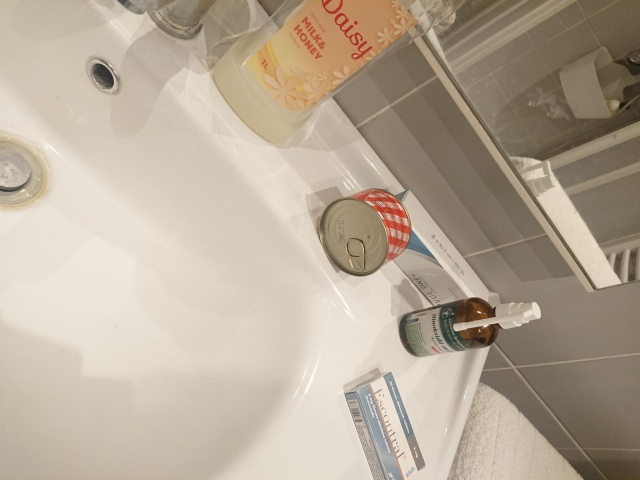Podravka Luncheon Meat 150g: (316, 186, 414, 279)
